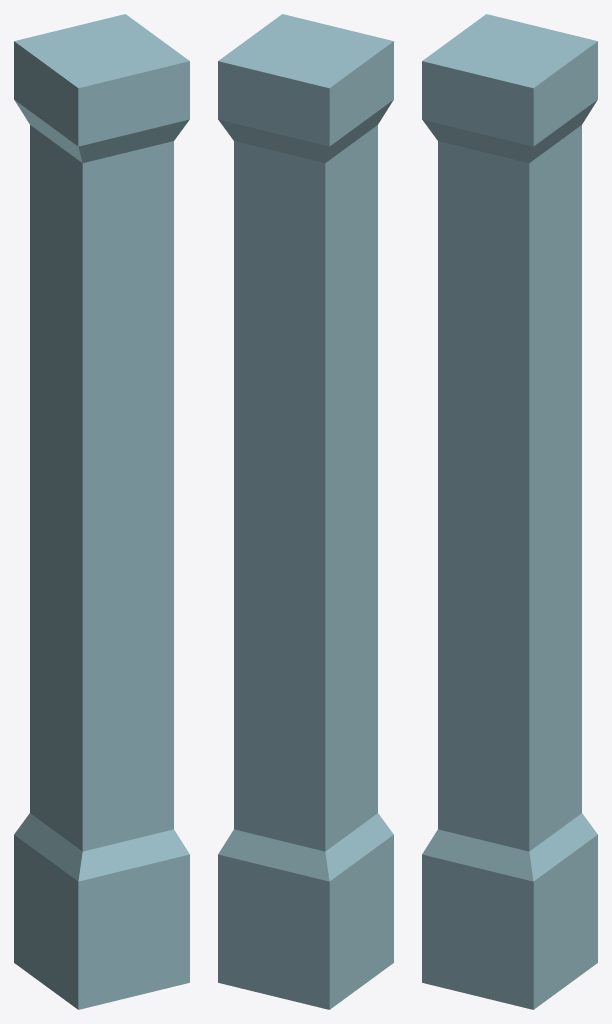
File: borderPillar.dae
3 renders of one model, left to right at view 1: azimuth 30°, elevation 25°; view 2: azimuth 150°, elevation 25°; view 3: azimuth 330°, elevation 25°, orthographic.
Parts seen in each view (by area): view 1: borderPillar; view 2: borderPillar; view 3: borderPillar.
Part boxes in pixels (x1,y1,x2,y2): borderPillar: [14, 14, 189, 1009]; borderPillar: [218, 14, 393, 1009]; borderPillar: [422, 14, 597, 1009].
Bounding box in the file's own units: 0.1 × 0.79 × 0.1.
